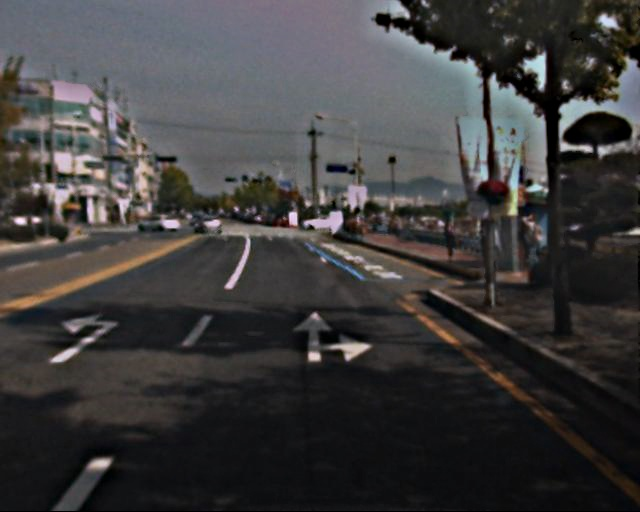person: (516, 212, 543, 279), (474, 212, 497, 267), (441, 217, 458, 259)
